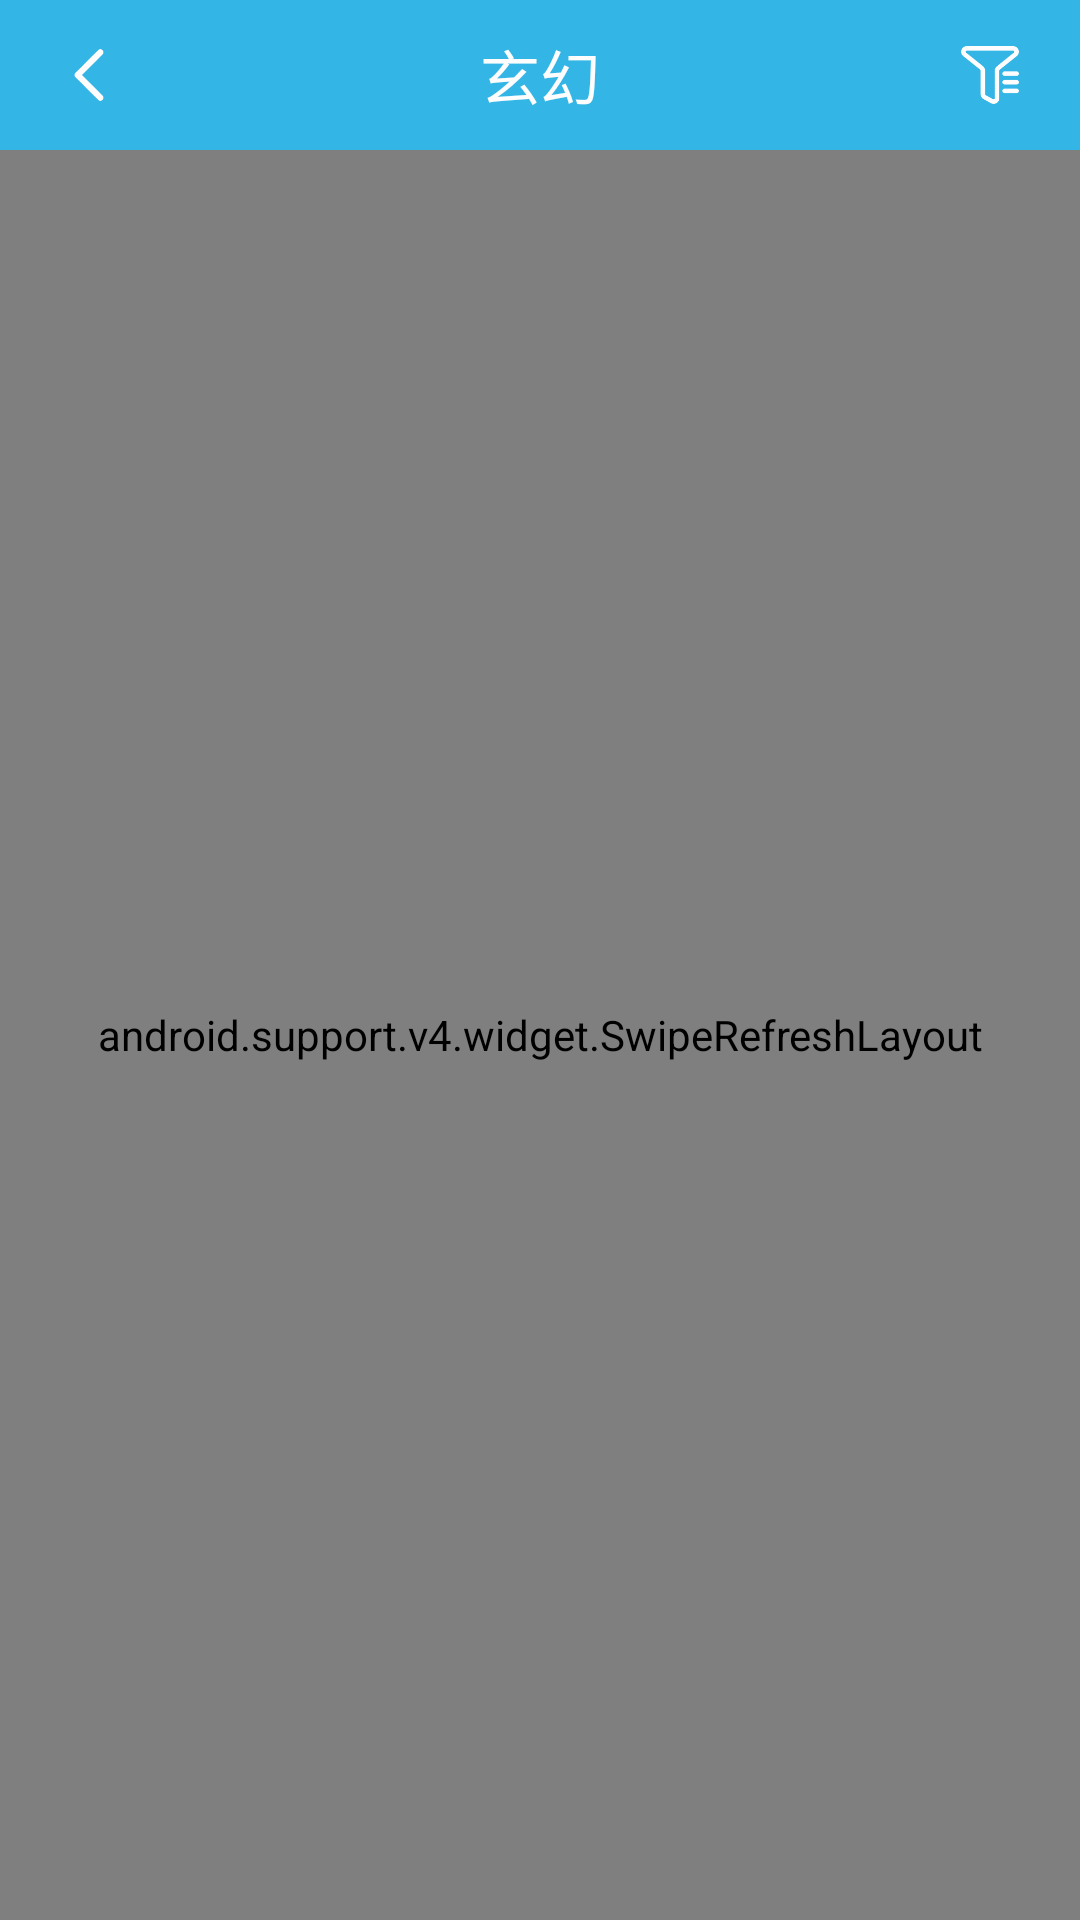

Screen size 1080 × 1920. Icon name, then its box in pixels as (x1, y1, x2, y2):
all novel back: (74, 49, 104, 101)
all novel screen: (961, 46, 1019, 104)
